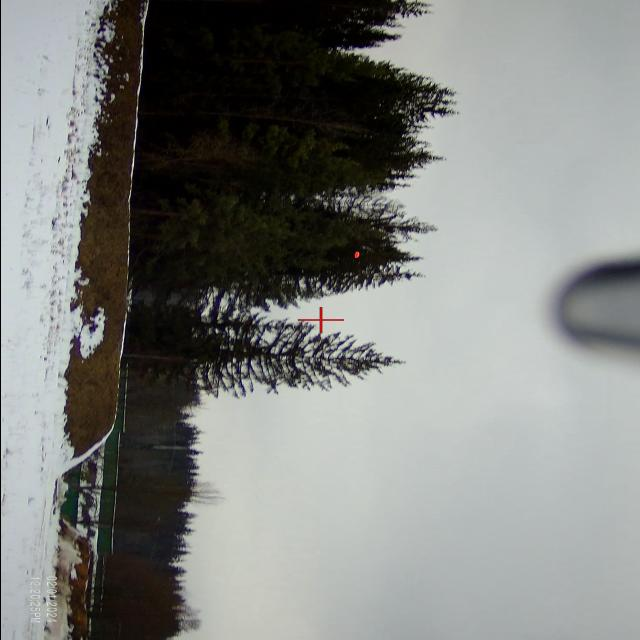entire: (351, 247, 362, 260)
